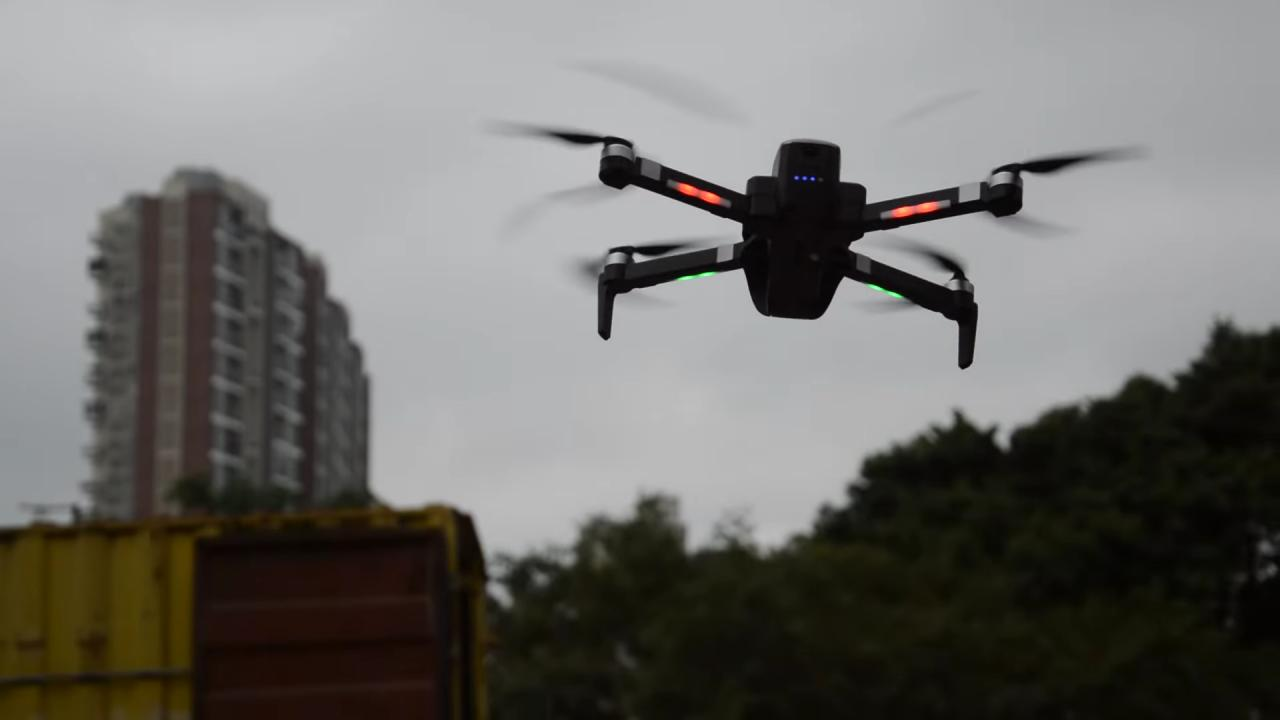Drone: (457, 76, 1170, 377)
